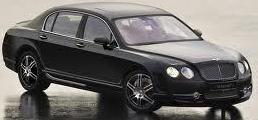front_view: (158, 58, 254, 107)
headlight: (165, 63, 197, 81)
side_glass: (44, 8, 122, 50)
